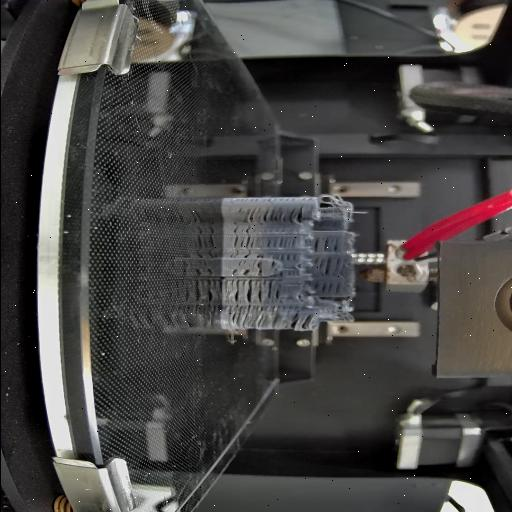cracks: (225, 305, 313, 331), (224, 280, 280, 302), (242, 206, 304, 222), (228, 224, 258, 248), (314, 256, 340, 276), (312, 279, 342, 293), (314, 236, 340, 252), (264, 237, 296, 248), (228, 250, 265, 258), (230, 267, 250, 276), (276, 252, 296, 260), (278, 270, 300, 276), (256, 260, 264, 276), (269, 259, 275, 269)
